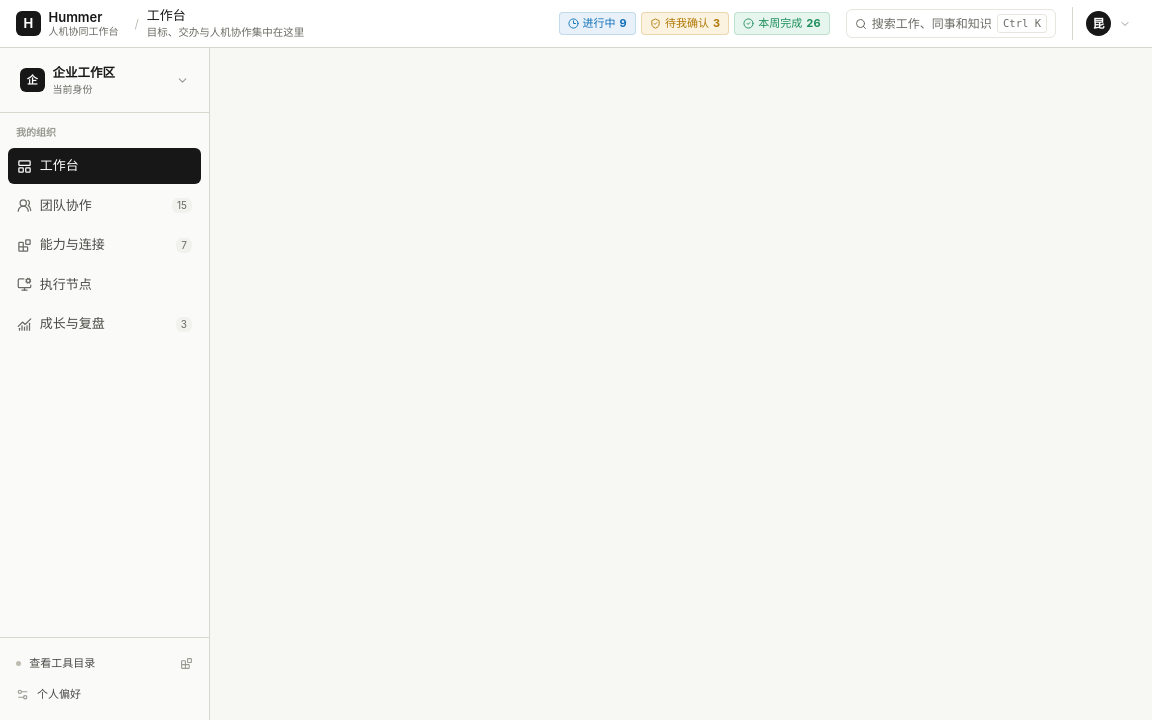
Scenario: commercial shell language › uses business-facing navigation and exposes personal settings
The width and height of the screenshot is (1152, 720).
Expected: the text "团队协作" is shown, [40, 197, 92, 213]
Expected: the text "能力与连接" is shown, [40, 236, 105, 252]
Click the button named "打开个人菜单": (1108, 24) [1081, 7, 1136, 40]
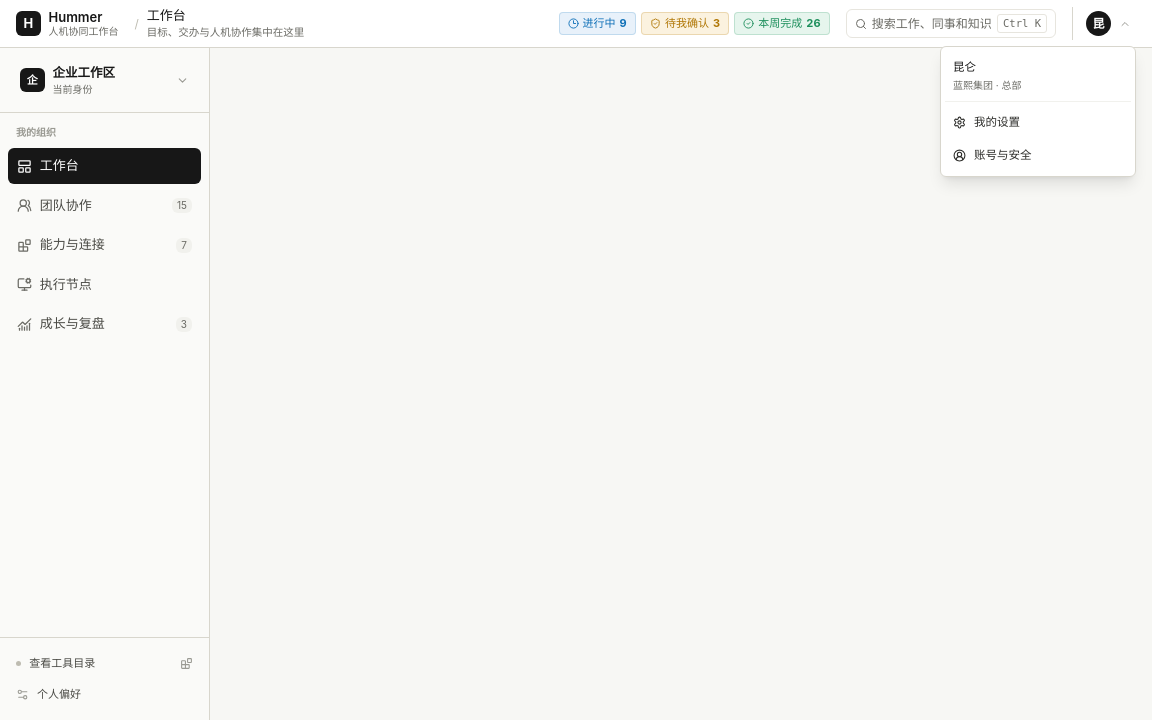
Now the button "我的设置" is shown, box [945, 106, 1131, 139]
